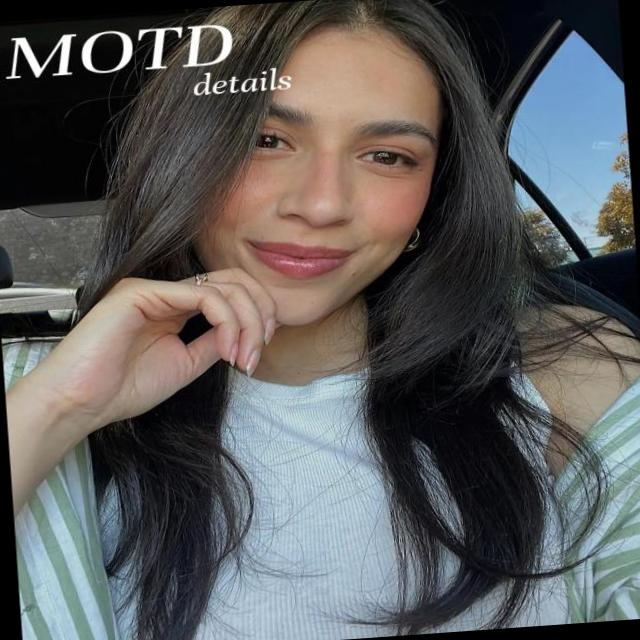redness: (311, 149, 341, 211)
